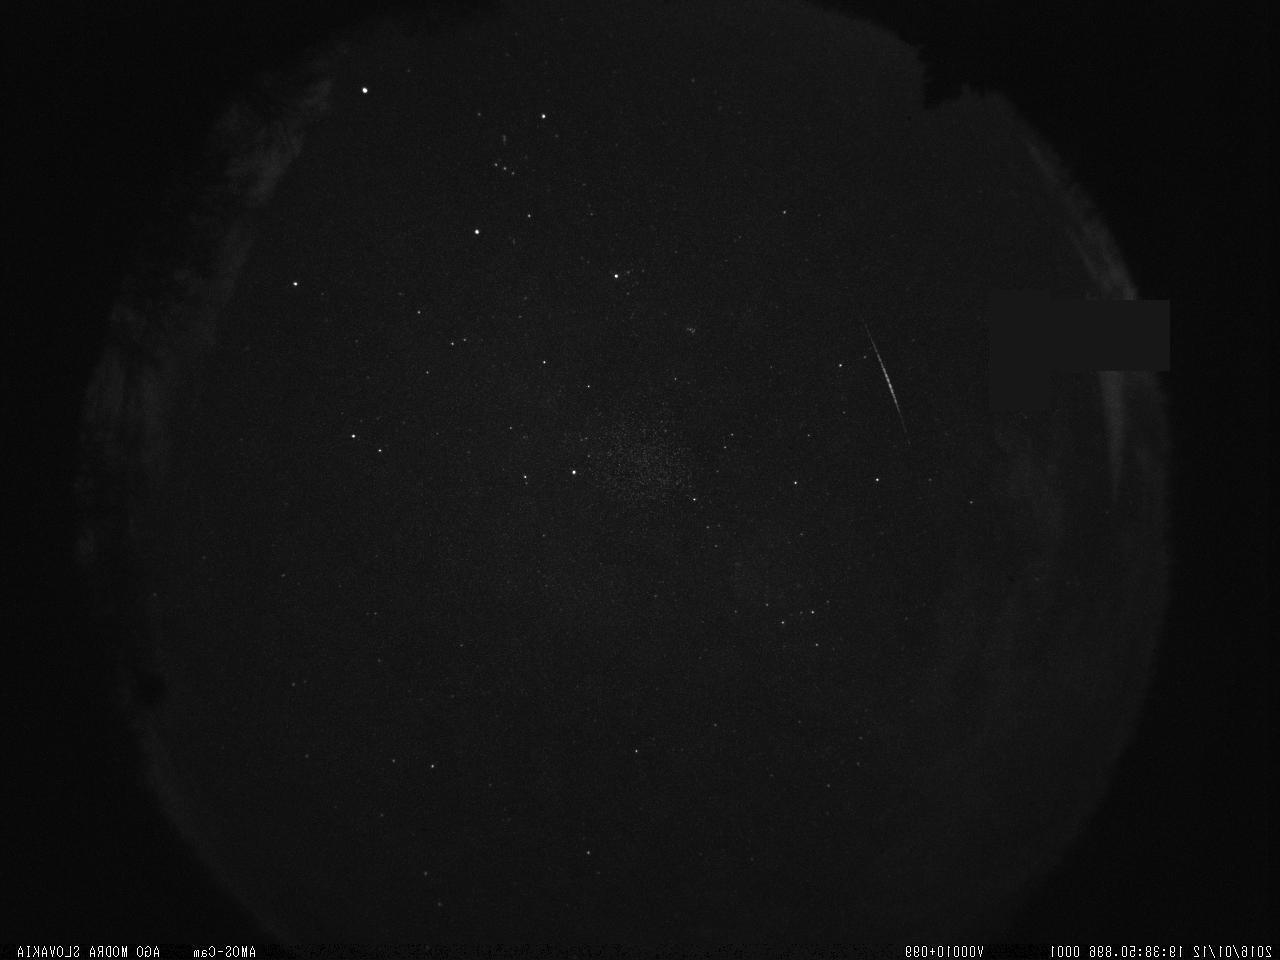meteor: (837, 329, 935, 442)
